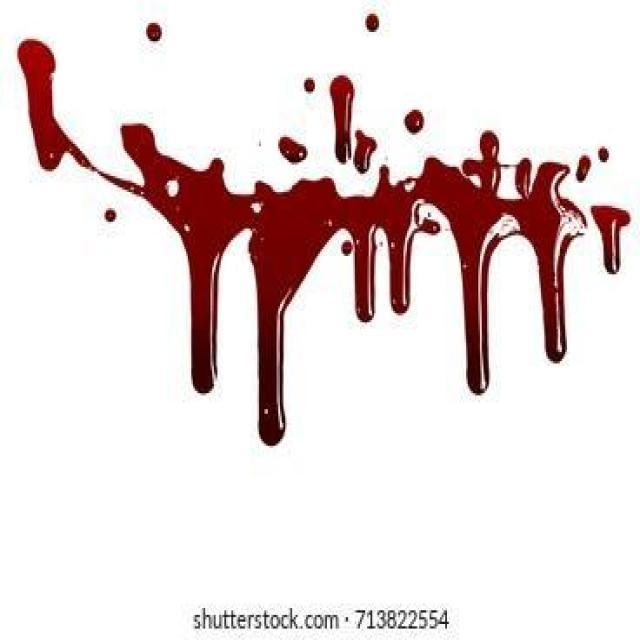flood: (17, 30, 638, 417)
